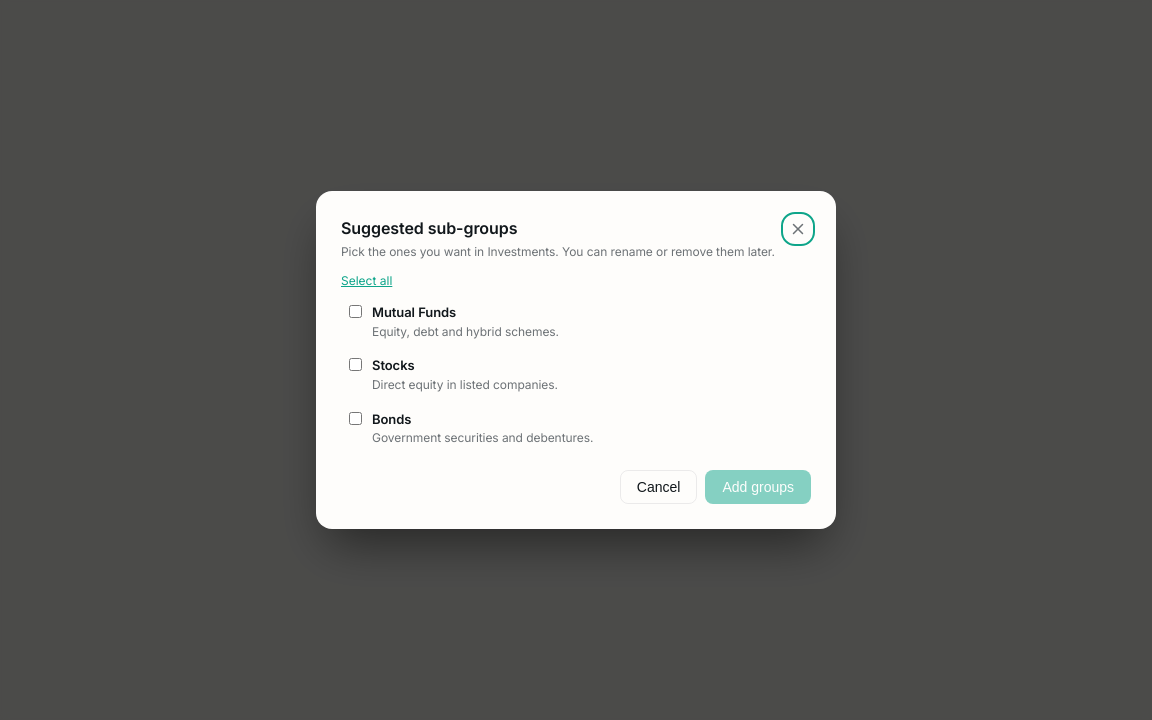
Test case: SuggestGroupsModal › unticking removes it again
Click the checkbox labelled "Stocks": (356, 365) [349,358,362,371]
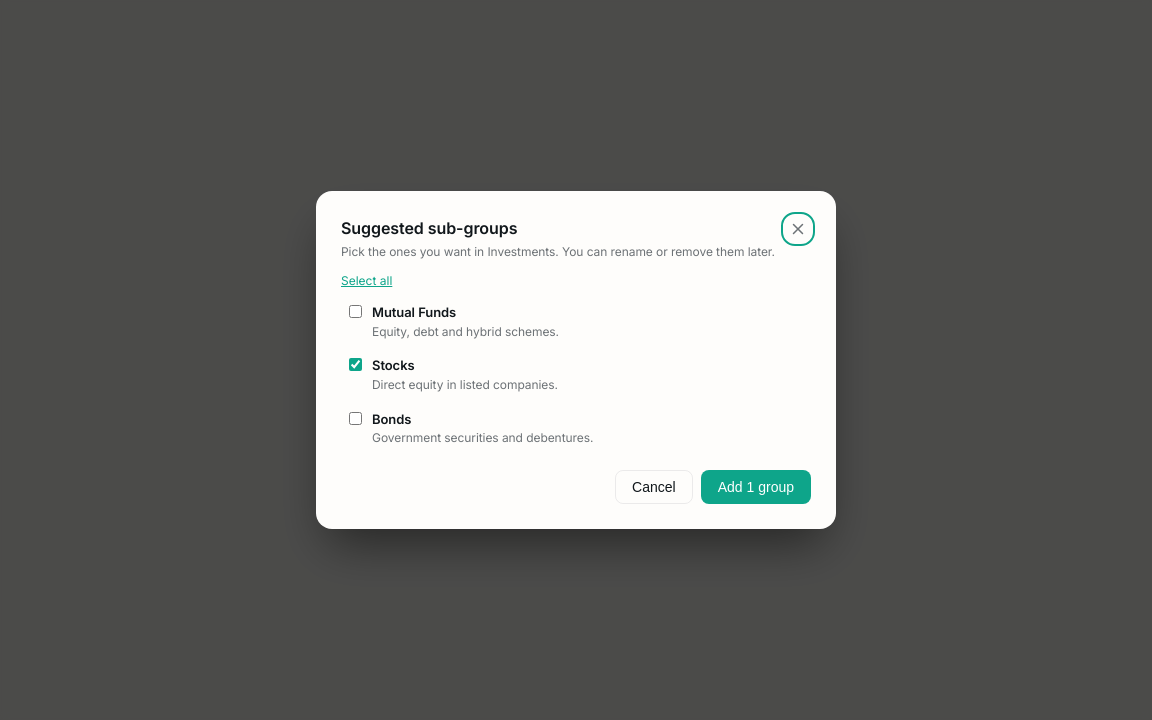
Click the checkbox labelled "Stocks": (356, 365) [349,358,362,371]
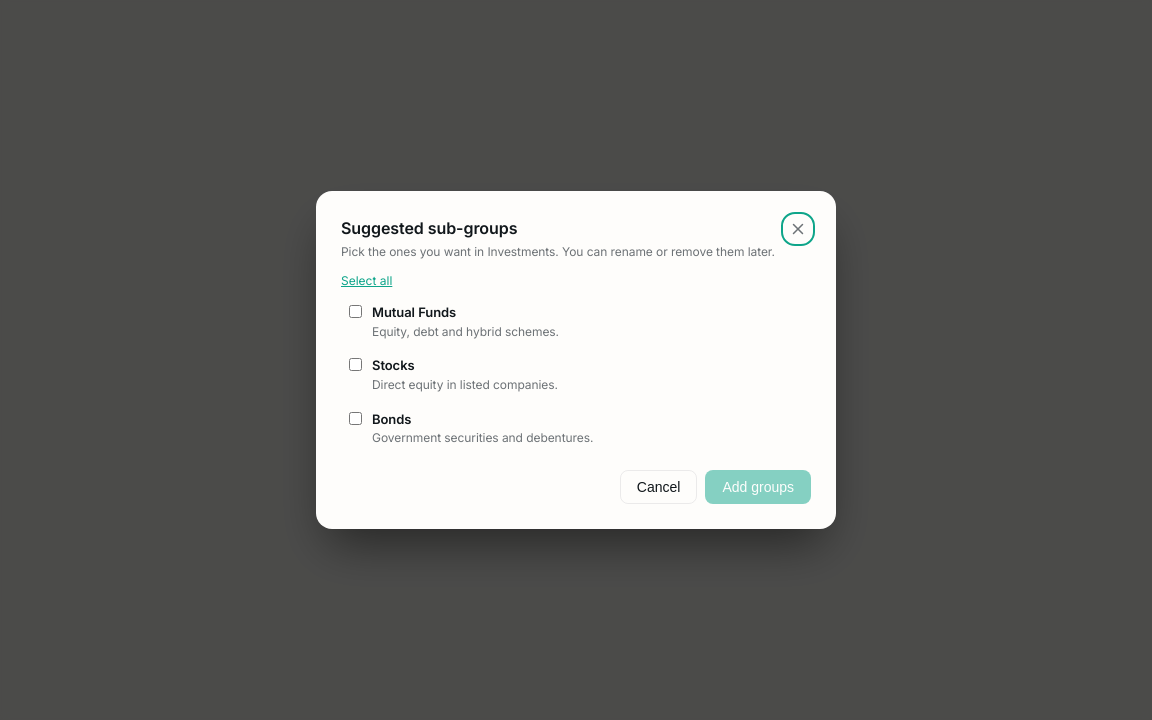
Check: the button "Add groups" is disabled, box [705,470,811,504]
